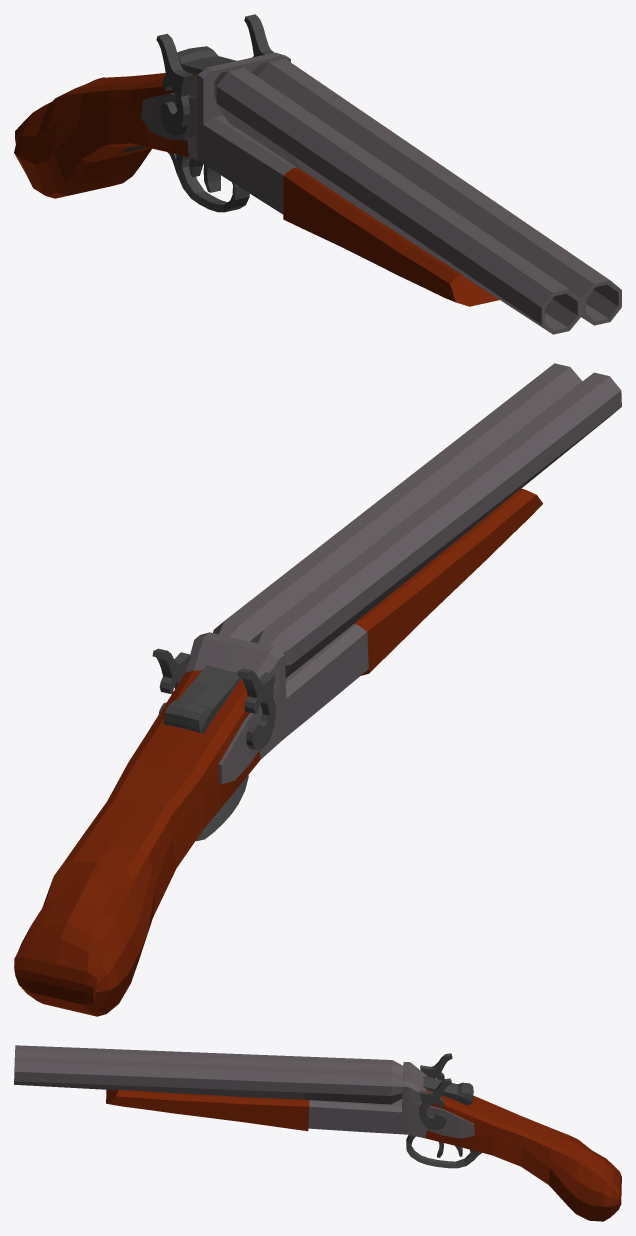
The model's file is drobovik1.1.fbx.
The picture shows the model from 3 angles, top to bottom: view 1: azimuth 30°, elevation 25°; view 2: azimuth 150°, elevation 25°; view 3: azimuth 270°, elevation 25°; orthographic projection. The views are drawn at different scales.
Visible parts, largest first — view 1: drobovik; view 2: drobovik; view 3: drobovik.
Part boxes in pixels (bbox=[...]): drobovik: bbox=[14, 14, 621, 334]; drobovik: bbox=[14, 363, 621, 1016]; drobovik: bbox=[14, 1045, 621, 1221].
Bounding box in the file's own units: 6.18 × 16.21 × 56.2.
